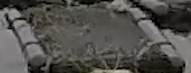bag: (3, 5, 186, 73)
